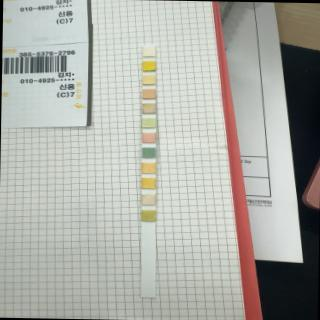mark: (142, 193, 156, 206), (142, 132, 156, 144), (142, 162, 156, 174), (142, 210, 156, 222), (142, 74, 156, 84), (142, 103, 156, 113), (141, 118, 155, 128), (141, 178, 155, 188), (142, 47, 155, 57), (142, 89, 155, 99), (142, 61, 156, 70), (142, 148, 154, 158)
